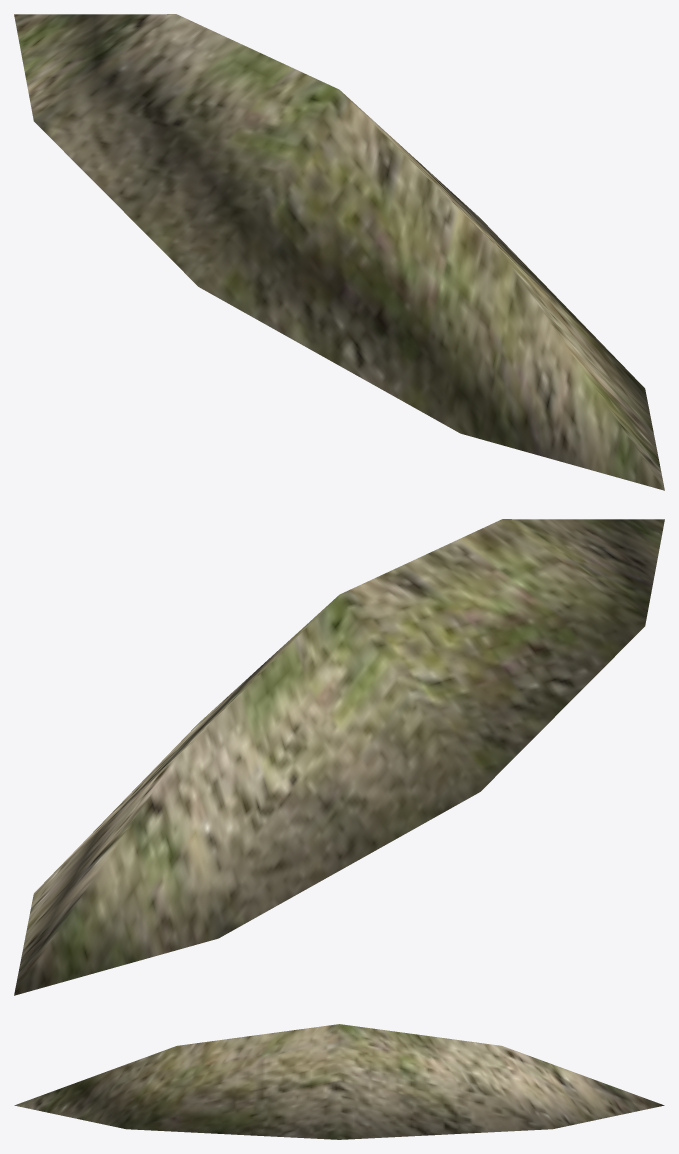
Rendered from cf_sm_crest.obj.
The picture shows the model from 3 angles, top to bottom: view 1: azimuth 30°, elevation 25°; view 2: azimuth 150°, elevation 25°; view 3: azimuth 270°, elevation 25°; orthographic projection. The views are drawn at different scales.
Parts seen in each view (by area): view 1: crest_Cube.002; view 2: crest_Cube.002; view 3: crest_Cube.002.
Part boxes in pixels (x1,y1,x2,y2): crest_Cube.002: (14, 14, 664, 490); crest_Cube.002: (14, 519, 664, 995); crest_Cube.002: (14, 1024, 664, 1139).
Size of the model in its own units: 1.73 by 0.971 by 6.93.
